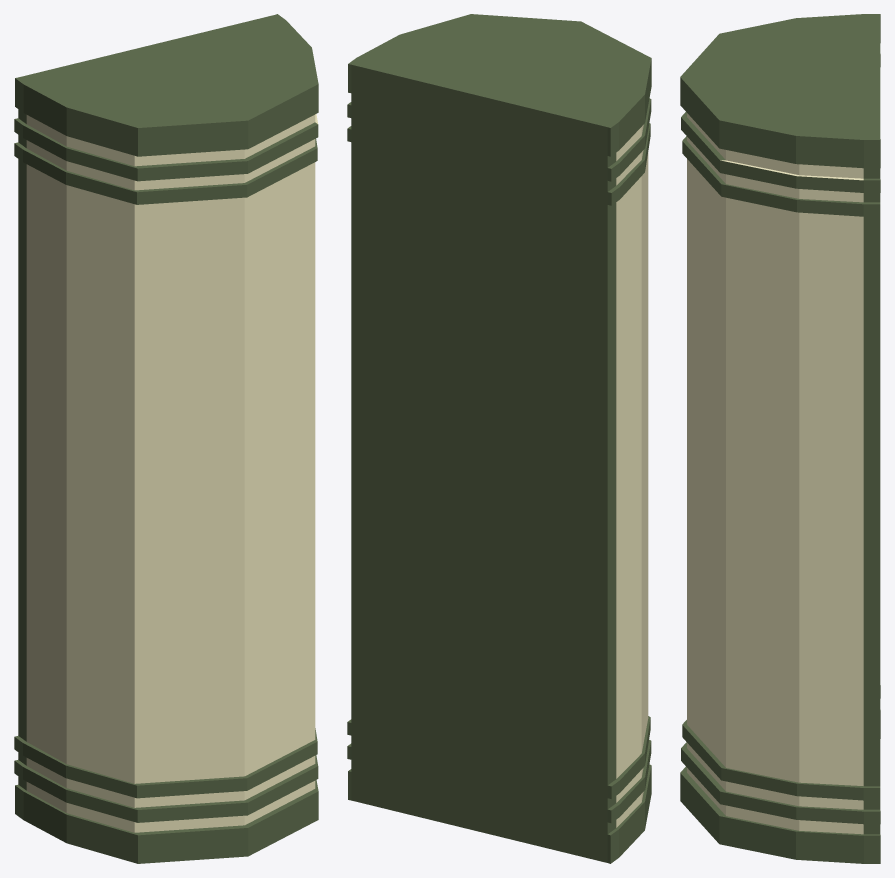
Rendered from light 1.FBX.
3 renders of one model, left to right at view 1: azimuth 30°, elevation 25°; view 2: azimuth 150°, elevation 25°; view 3: azimuth 270°, elevation 25°, orthographic.
Parts seen in each view (by area): view 1: Cylinder002; view 2: Cylinder002; view 3: Cylinder002.
Part boxes in pixels (bbox=[...]): Cylinder002: bbox=[14, 14, 318, 863]; Cylinder002: bbox=[347, 14, 651, 863]; Cylinder002: bbox=[680, 14, 880, 863].
Bounding box in the file's own units: 22.19 × 59.08 × 14.83.
